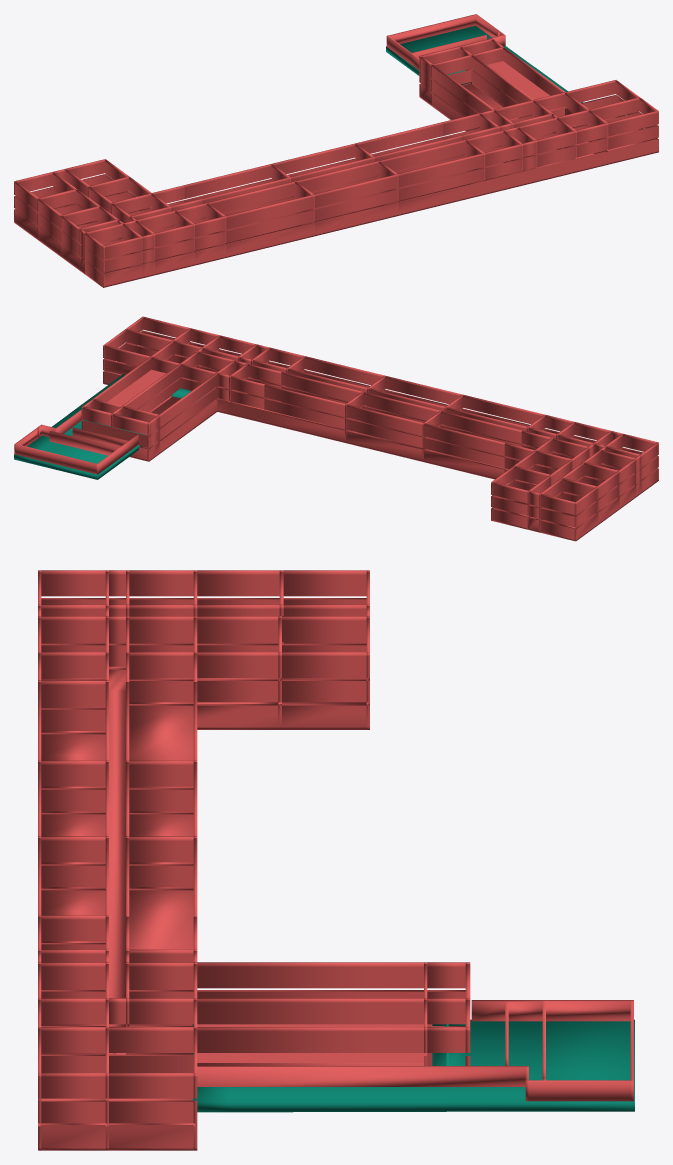
The picture shows the model from 3 angles, top to bottom: view 1: azimuth 30°, elevation 25°; view 2: azimuth 150°, elevation 25°; view 3: azimuth 270°, elevation 25°; orthographic projection. The views are drawn at different scales.
Visible parts, largest first — view 1: Floor_3, Floor_2, Floor_1, StraightStair002; view 2: Floor_3, Floor_2, Floor_1, StraightStair002; view 3: Floor_3, Floor_2, Floor_1, StraightStair002.
Boxes of the visible parts, box(x1,y1,x2,y2) form: Floor_3: box(14, 38, 658, 259); Floor_2: box(14, 14, 658, 272); Floor_1: box(14, 82, 658, 287); StraightStair002: box(386, 25, 583, 102); Floor_3: box(81, 316, 658, 515); Floor_2: box(14, 330, 658, 527); Floor_1: box(103, 345, 658, 541); StraightStair002: box(14, 374, 202, 479); Floor_3: box(38, 570, 470, 1098); Floor_2: box(38, 598, 633, 1123); Floor_1: box(38, 666, 432, 1150); StraightStair002: box(192, 1019, 634, 1112).
Size of the model in its own units: 3520 by 250 by 1763.
